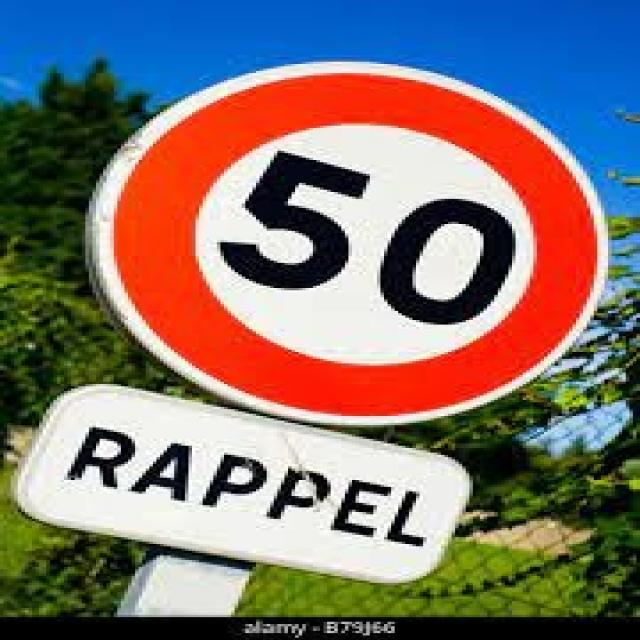speed_limit_50: (82, 46, 640, 427)
